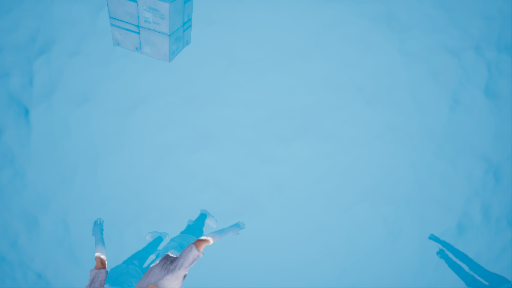person: (90, 212, 228, 288)
